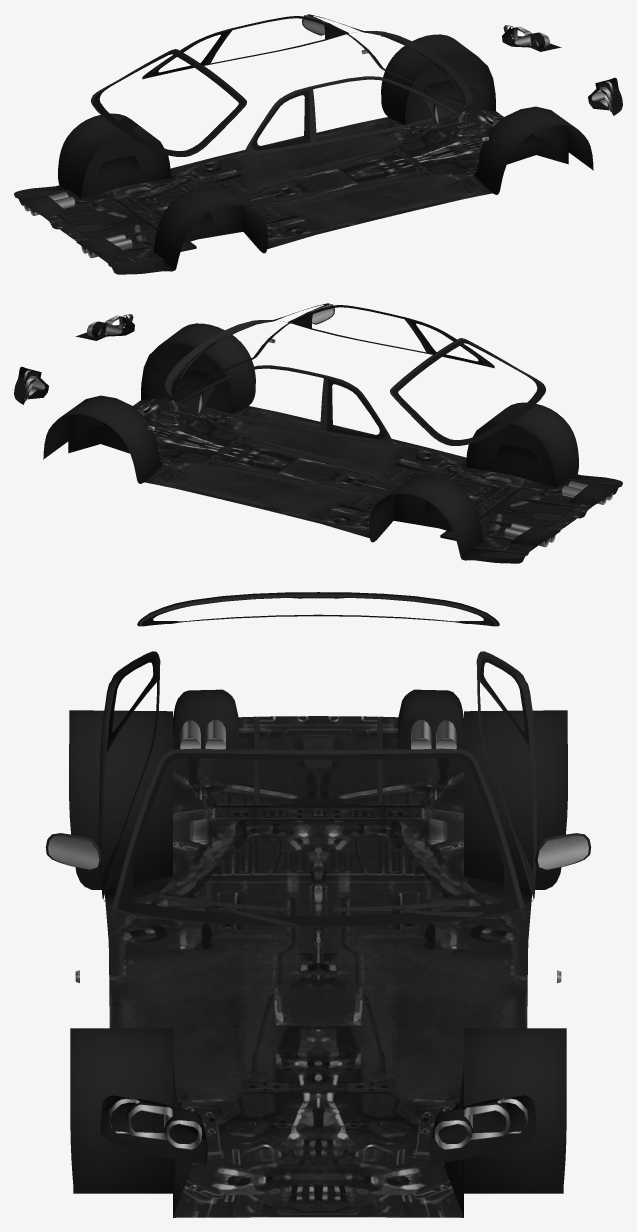
Rendered from gallo99_bottom_ucb_bottom_lt_0.002_lev3.glb.
The picture shows the model from 3 angles, top to bottom: view 1: azimuth 30°, elevation 25°; view 2: azimuth 150°, elevation 25°; view 3: azimuth 270°, elevation 25°; orthographic projection. The views are drawn at different scales.
Visible parts, largest first — view 1: gallo99_bottom_ucb_bottom_lt_0.002_lev3; view 2: gallo99_bottom_ucb_bottom_lt_0.002_lev3; view 3: gallo99_bottom_ucb_bottom_lt_0.002_lev3.
Part boxes in pixels (x1,y1,x2,y2): gallo99_bottom_ucb_bottom_lt_0.002_lev3: [14, 14, 622, 274]; gallo99_bottom_ucb_bottom_lt_0.002_lev3: [14, 303, 622, 563]; gallo99_bottom_ucb_bottom_lt_0.002_lev3: [45, 592, 591, 1217].
Bounding box in the file's own units: 4.5 × 1.16 × 1.97.
1 material, 1 textured.
